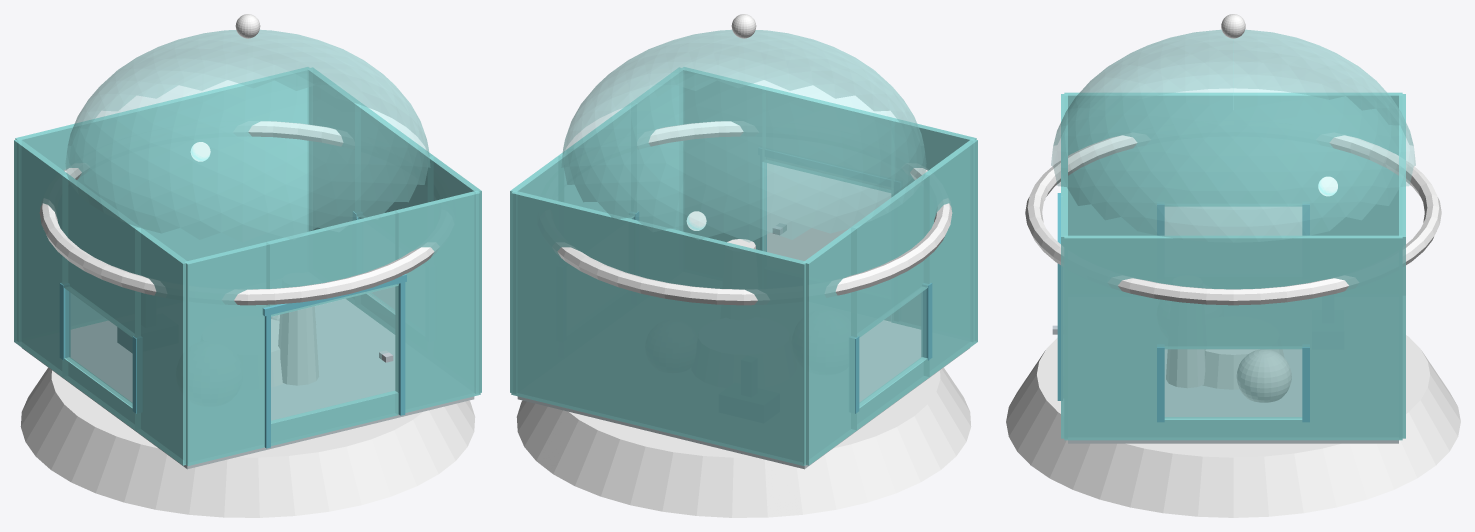
The model's file is aqua_dome.glb.
The picture shows the model from 3 angles, left to right: view 1: azimuth 30°, elevation 25°; view 2: azimuth 150°, elevation 25°; view 3: azimuth 270°, elevation 25°; orthographic projection.
Visible parts, largest first — view 1: Transparent_Dome_Roof, Shell_Back, Original_stone, Shell_Front_Side_-1, Shell_Front_Side_1, Door_Main_Glass, Walkable_Interior_Floor, Shell_Side_-1_End_1, Shell_Side_-1_End_-1, Original_metal, Shell_Front_Header, Shell_Side_-1_Header (+14 smaller); view 2: Transparent_Dome_Roof, Shell_Back, Original_stone, Shell_Front_Side_1, Shell_Side_-1_End_-1, Shell_Front_Header, Shell_Side_-1_End_1, Original_metal, Door_Main_Glass, Shell_Side_-1_Header, Shell_Side_1_Header, Shell_Side_1_End_1 (+7 smaller); view 3: Transparent_Dome_Roof, Original_stone, Shell_Side_1_End_-1, Shell_Side_1_End_1, Shell_Side_-1_Header, Shell_Side_1_Header, Shell_Side_-1_End_1, Shell_Side_-1_End_-1, Original_metal, Window_Left_Glass, Walkable_Interior_Floor, Window_Right_Glass (+9 smaller).
Boxes of the visible parts, x1,y1,x2,y2 form: Transparent_Dome_Roof: [65, 29, 430, 242]; Shell_Back: [15, 67, 309, 341]; Original_stone: [20, 367, 475, 517]; Shell_Front_Side_-1: [185, 242, 269, 465]; Shell_Front_Side_1: [395, 191, 480, 414]; Door_Main_Glass: [271, 286, 397, 423]; Walkable_Interior_Floor: [22, 299, 474, 469]; Shell_Side_-1_End_1: [135, 227, 188, 465]; Shell_Side_-1_End_-1: [14, 139, 67, 376]; Original_metal: [39, 121, 438, 305]; Shell_Front_Header: [267, 210, 398, 316]; Shell_Side_-1_Header: [62, 174, 140, 337]; Transparent_Dome_Roof: [561, 29, 926, 242]; Shell_Back: [511, 191, 807, 465]; Original_stone: [516, 320, 971, 517]; Shell_Front_Side_1: [682, 67, 765, 251]; Shell_Side_-1_End_-1: [803, 227, 856, 465]; Shell_Front_Header: [762, 87, 894, 192]; Shell_Side_-1_End_1: [924, 139, 977, 376]; Original_metal: [553, 121, 952, 305]; Door_Main_Glass: [764, 162, 890, 260]; Shell_Side_-1_Header: [851, 174, 929, 337]; Shell_Side_1_Header: [558, 103, 636, 218]; Shell_Side_1_End_1: [631, 67, 683, 231]; Transparent_Dome_Roof: [1051, 29, 1415, 242]; Original_stone: [1006, 335, 1460, 517]; Shell_Side_1_End_-1: [1306, 235, 1402, 440]; Shell_Side_1_End_1: [1064, 235, 1160, 440]; Shell_Side_-1_Header: [1160, 92, 1306, 206]; Shell_Side_1_Header: [1160, 235, 1306, 349]; Shell_Side_-1_End_1: [1064, 92, 1160, 235]; Shell_Side_-1_End_-1: [1306, 92, 1402, 235]; Original_metal: [1025, 135, 1441, 305]; Window_Left_Glass: [1164, 349, 1302, 418]; Walkable_Interior_Floor: [1068, 349, 1398, 443]; Window_Right_Glass: [1165, 207, 1301, 235].
Bounding box in the file's own units: 2.96 × 2.92 × 2.96.
